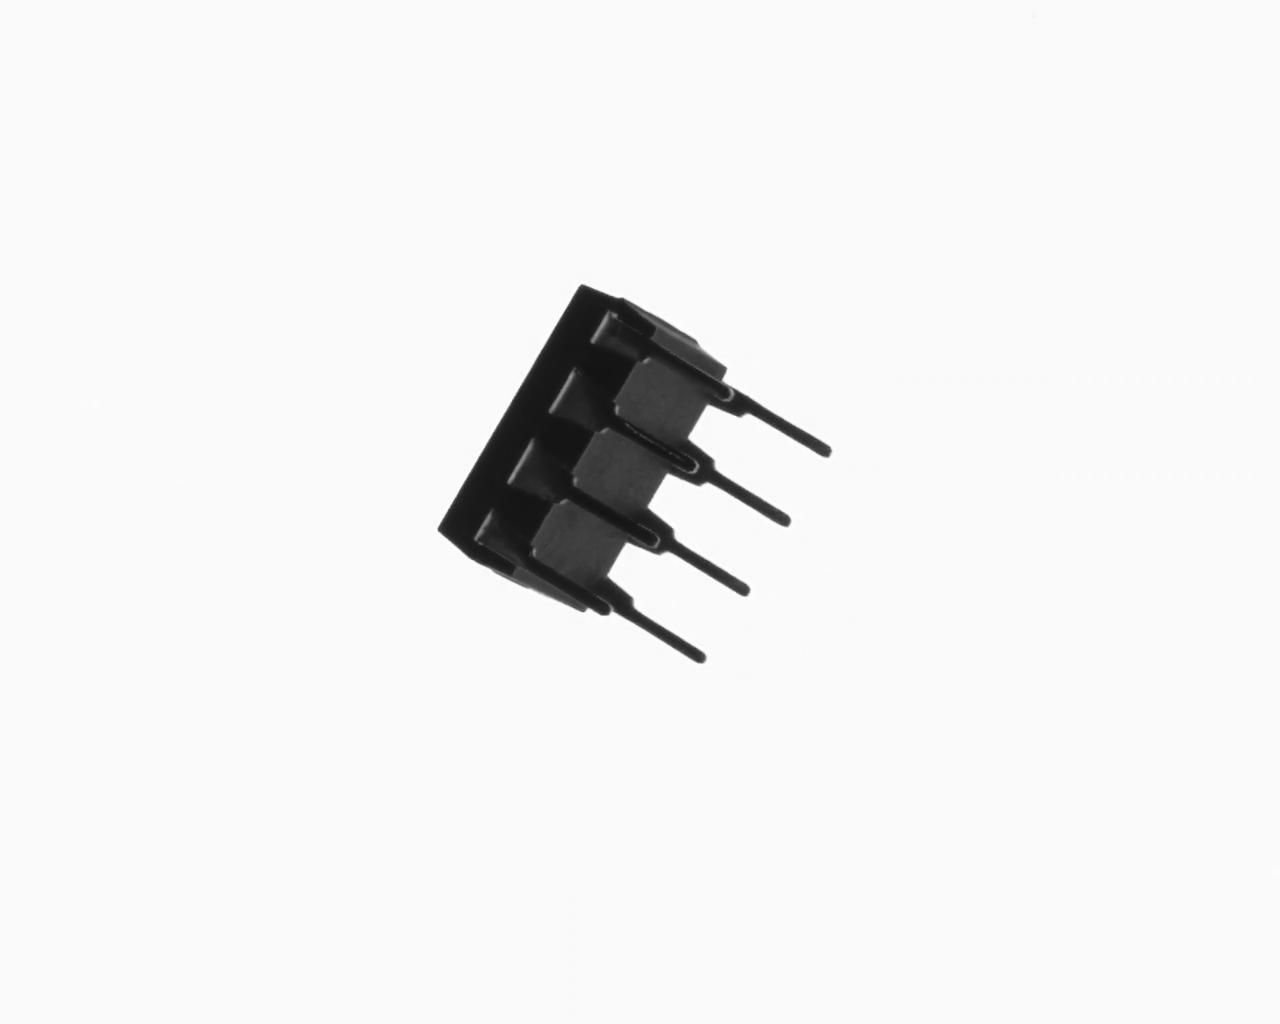Leg: (552, 376, 702, 474), (533, 452, 661, 554), (714, 369, 835, 466), (621, 310, 738, 403), (684, 436, 794, 530), (648, 510, 753, 607), (505, 526, 613, 620), (609, 581, 711, 666)
